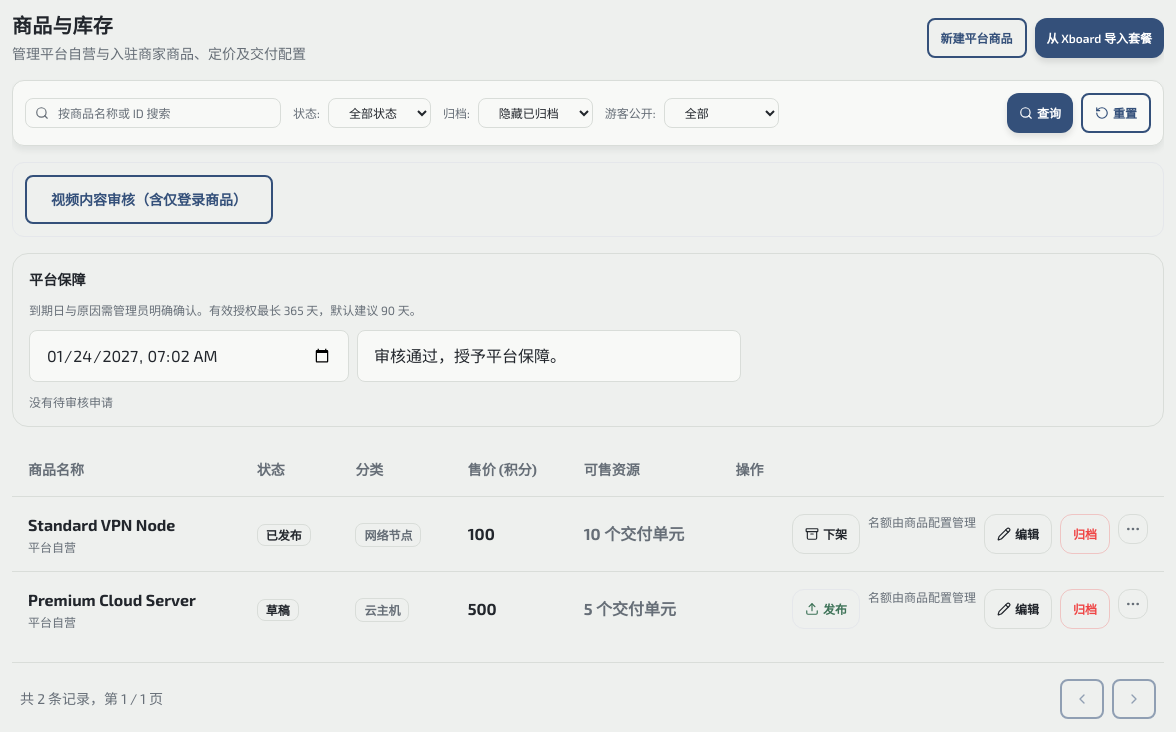
Test: AdminProductPanel (PR 04) › resets all draft inputs and applied filters to defaults on reset button click
Expected: the text "Standard VPN Node" is shown, [28, 515, 175, 534]
In the field with test id "admin-products-search-input": (153,113) [25, 98, 281, 128], type "Server"
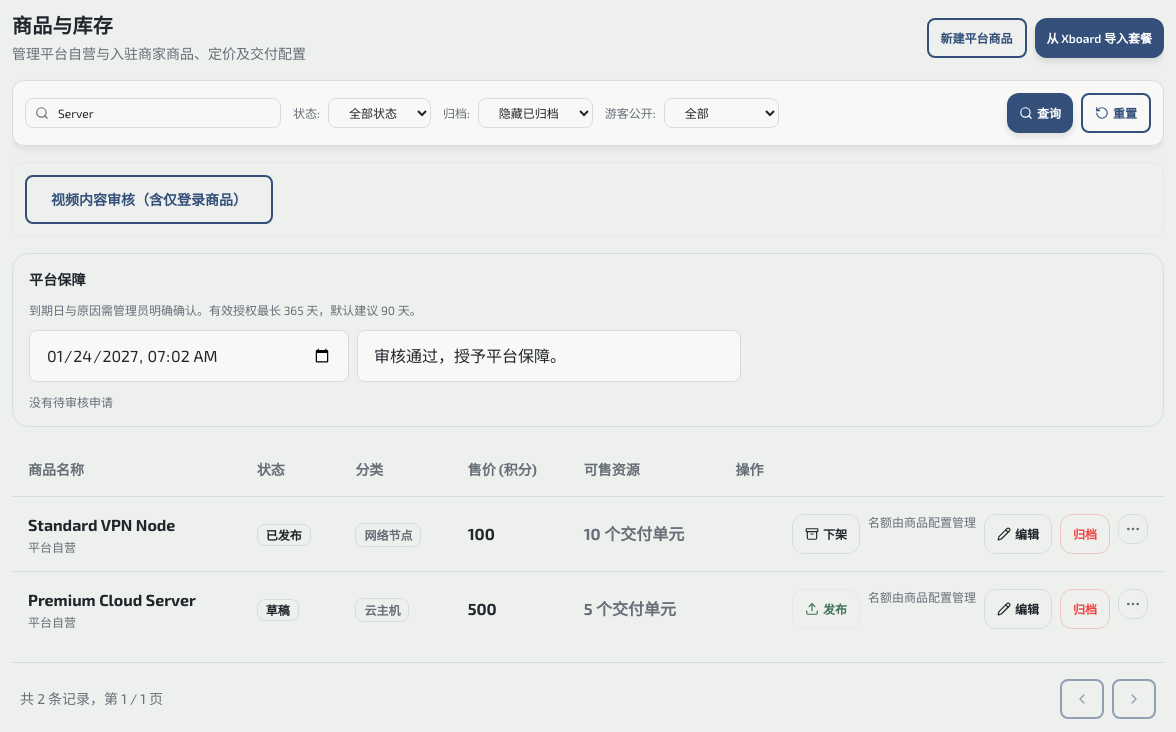
Select "草稿" in the dropdown with test id "admin-products-status-filter": (379,113) [328, 98, 431, 128]
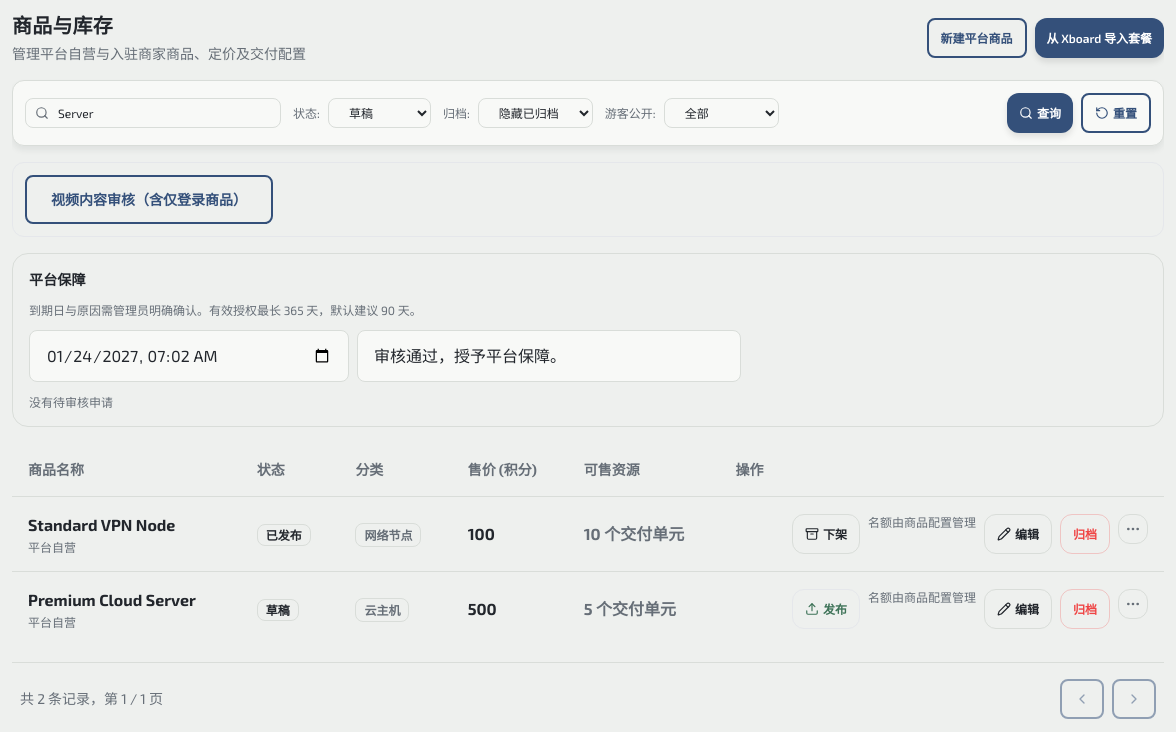
Select "全部" in the dropdown with test id "admin-products-archived-filter": (535,113) [478, 98, 593, 128]
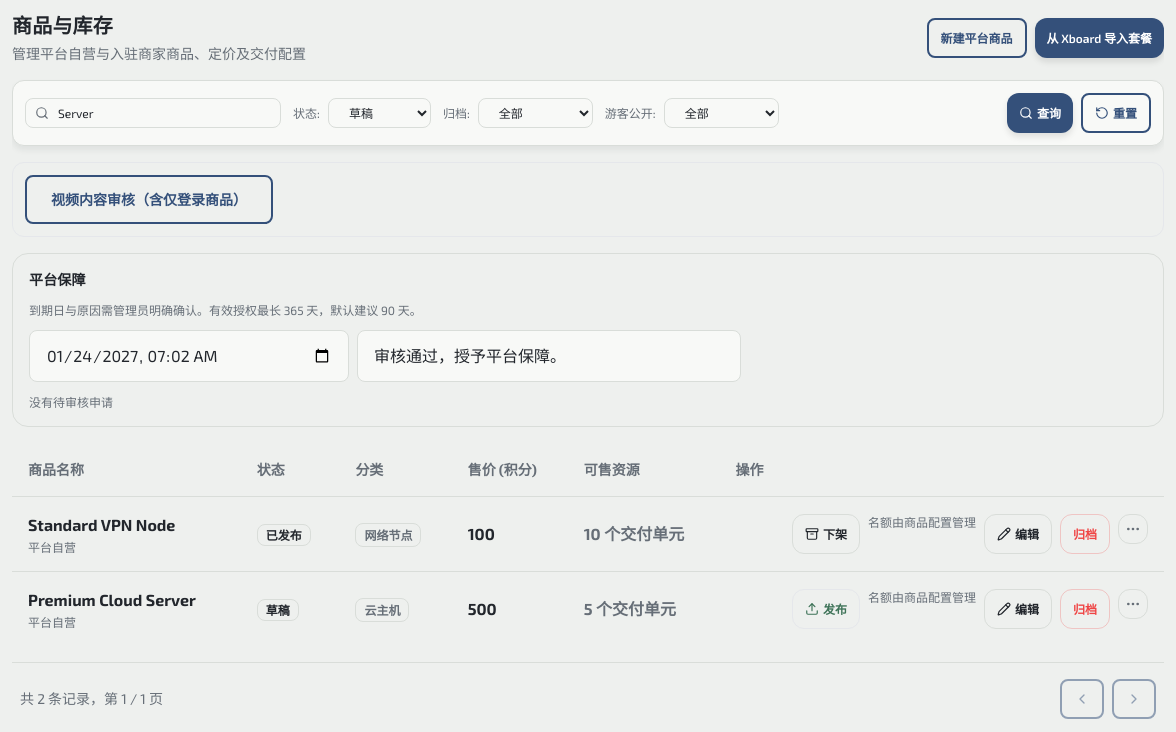
Click the button with test id "admin-products-reset-btn": (1116,113) [1081, 93, 1151, 133]
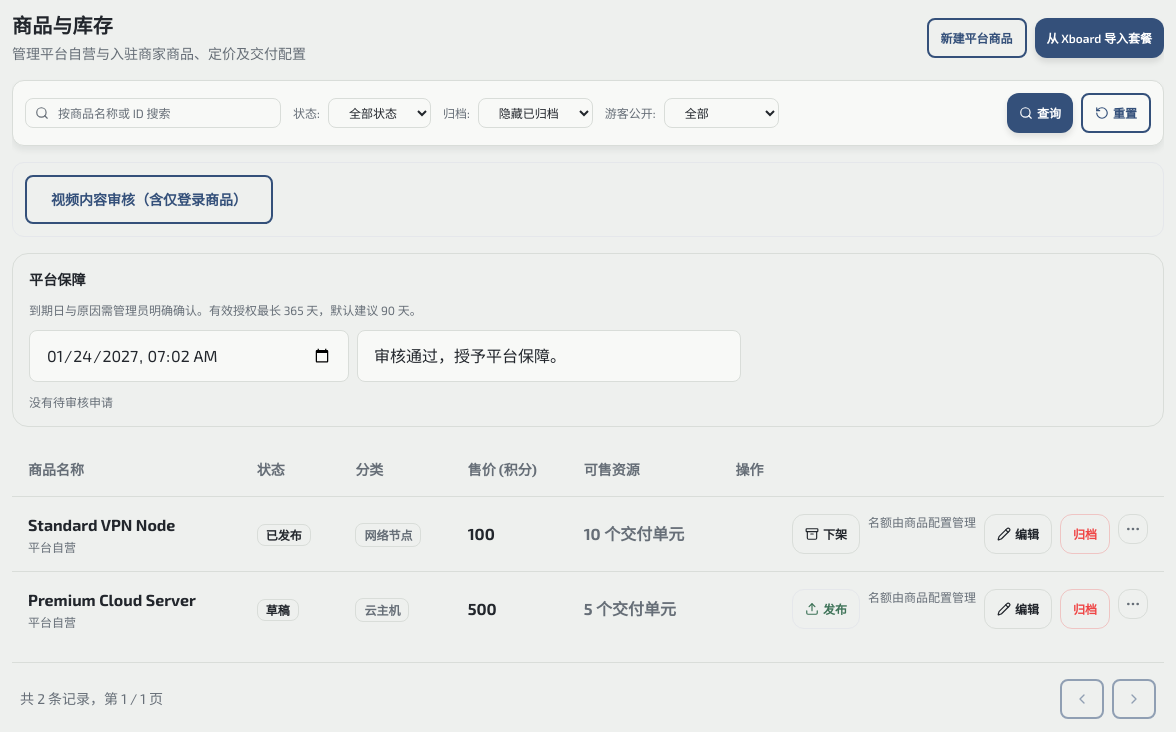
Result: the field with test id "admin-products-search-input" is empty at [25, 98, 281, 128]
